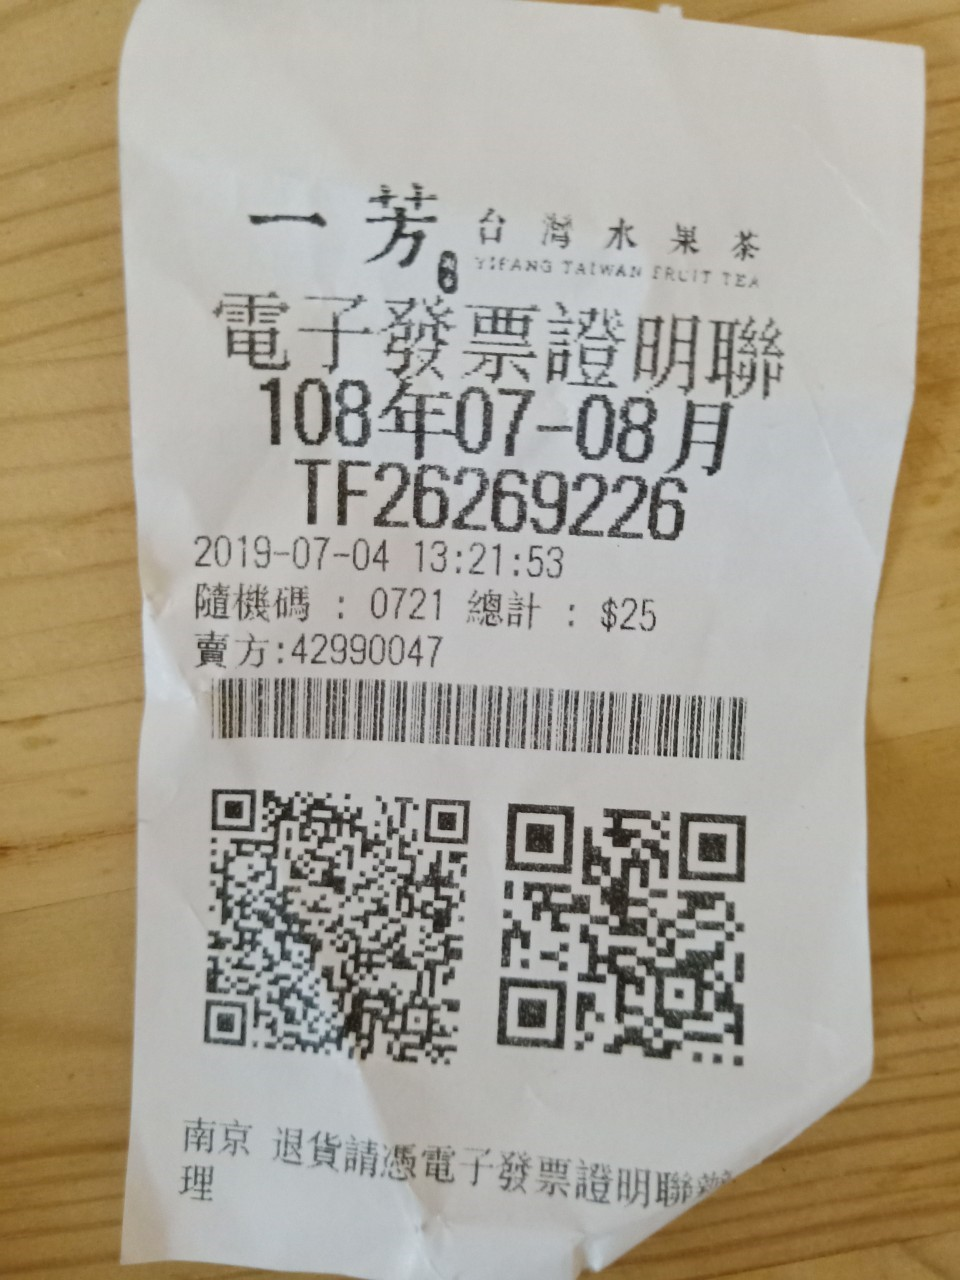Date_New: (255, 376, 738, 477)
Number_New: (371, 462, 693, 542)
